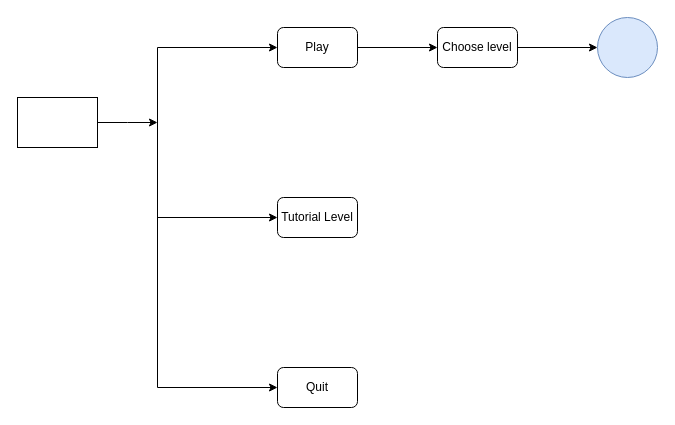
This 675x425 diagram has some shape labels left out. The shapes that lost their labels are listed below. From the top down, each one's box as (x1, y1, x2, y2) in pixels, then its label:
(596, 16, 658, 78): Start
(16, 96, 98, 148): Splash Screen
